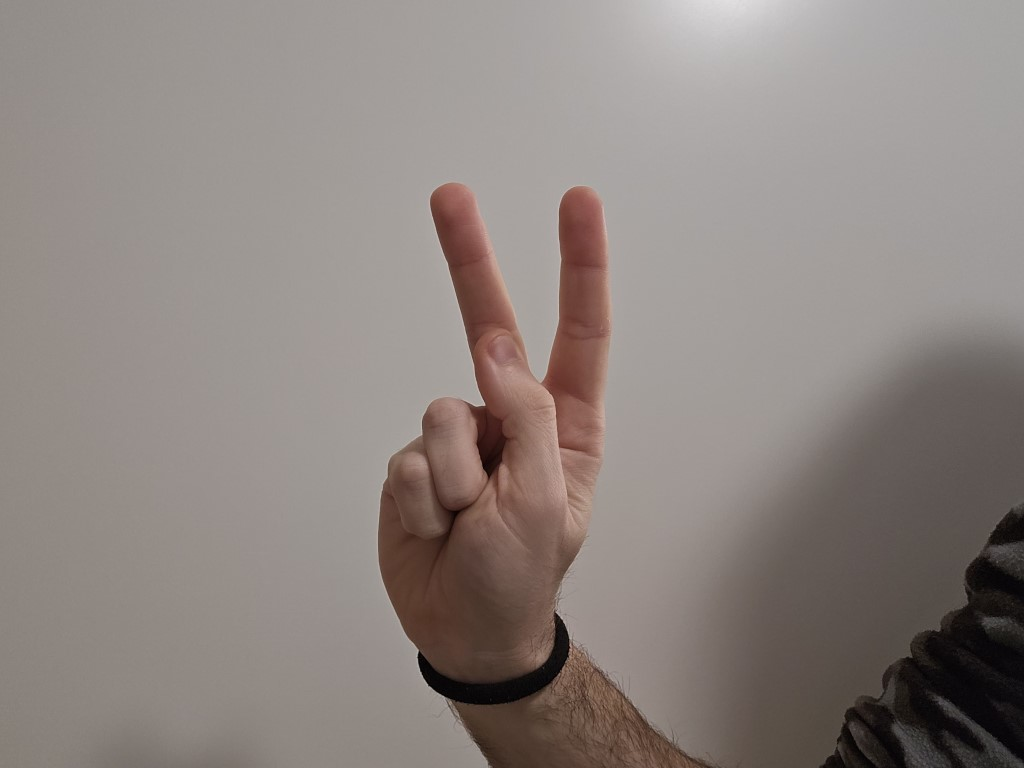k: (328, 172, 628, 648)
